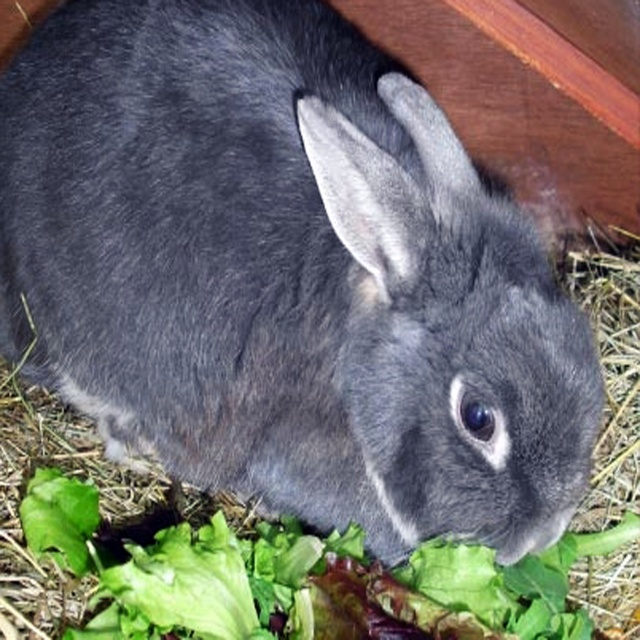Rabbit: (0, 0, 604, 570)
